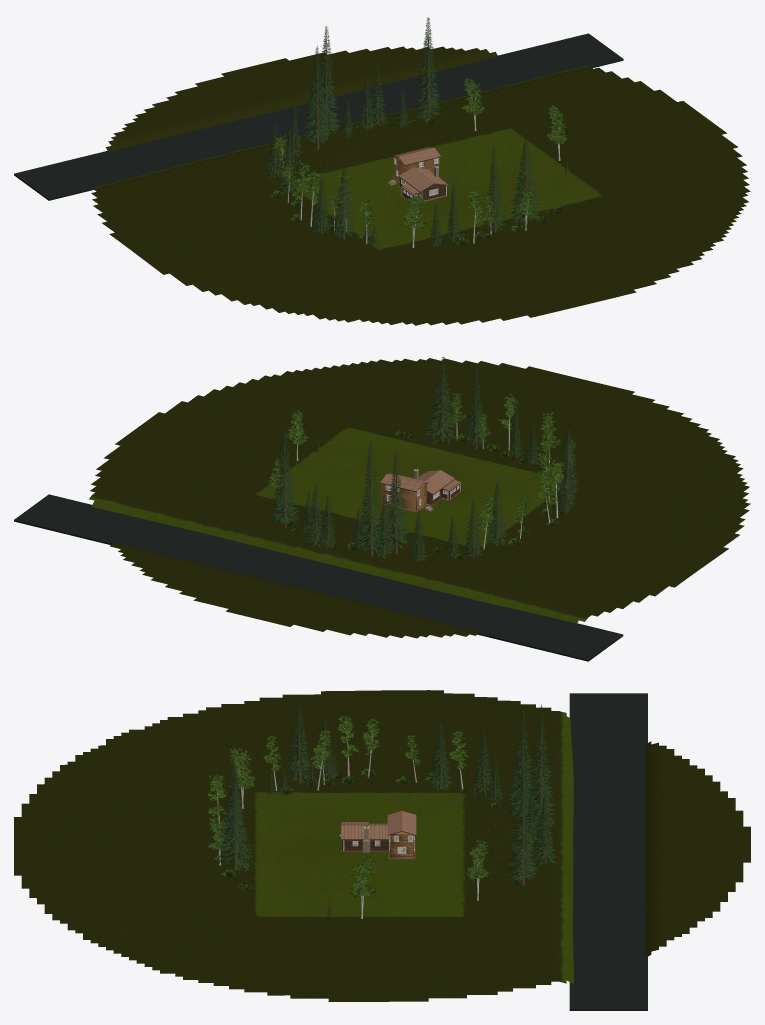
Rendered from plan_two_story_960_classic.glb.
3 views of the same model, one above another, from view 1: azimuth 30°, elevation 25°; view 2: azimuth 150°, elevation 25°; view 3: azimuth 270°, elevation 25° (orthographic). The views are drawn at different scales.
Visible parts, largest first — view 1: Ground, River, P_Fir0_inst.073, P_Fir1_inst.067, P_Fir0_inst.075, P_Spruce1_inst.042, P_Spruce0_inst.046, P_Fir0_inst.042, P_Spruce2_inst.079, P_Birch1_inst.040, EX_Roof_metal, P_Spruce3_inst.061 (+5 smaller); view 2: Ground, River, P_Fir0_inst.075, P_Fir0_inst.073, P_Spruce1_inst.042, P_Fir1_inst.067, P_Fir0_inst.042, P_Spruce0_inst.073, P_Spruce3_inst.061, P_Spruce0_inst.046, P_Spruce2_inst.079, P_Spruce2_inst.072 (+6 smaller); view 3: Ground, River, P_Fir0_inst.075, P_Fir0_inst.073, P_Spruce1_inst.042, P_Fir1_inst.067, P_Spruce0_inst.046, P_Spruce3_inst.061, P_Spruce2_inst.079, GrassTufts, EX_Roof_metal, P_Birch1_inst.040 (+7 smaller).
Part boxes in pixels (bbox=[...]): Ground: bbox=[90, 46, 750, 325]; River: bbox=[14, 33, 623, 200]; P_Fir0_inst.073: bbox=[414, 17, 442, 120]; P_Fir1_inst.067: bbox=[302, 45, 331, 149]; P_Fir0_inst.075: bbox=[312, 25, 342, 139]; P_Spruce1_inst.042: bbox=[509, 137, 541, 224]; P_Spruce0_inst.046: bbox=[332, 167, 355, 239]; P_Fir0_inst.042: bbox=[482, 147, 506, 232]; P_Spruce2_inst.079: bbox=[368, 63, 388, 126]; P_Birch1_inst.040: bbox=[403, 192, 426, 247]; EX_Roof_metal: bbox=[399, 167, 448, 191]; P_Spruce3_inst.061: bbox=[277, 130, 298, 194]; Ground: bbox=[89, 358, 750, 638]; River: bbox=[14, 494, 623, 661]; P_Fir0_inst.075: bbox=[355, 442, 383, 556]; P_Fir0_inst.073: bbox=[269, 421, 299, 527]; P_Spruce1_inst.042: bbox=[425, 357, 458, 441]; P_Fir1_inst.067: bbox=[383, 453, 410, 554]; P_Fir0_inst.042: bbox=[465, 363, 487, 449]; P_Spruce0_inst.073: bbox=[374, 494, 394, 559]; P_Spruce3_inst.061: bbox=[486, 483, 508, 547]; P_Spruce0_inst.046: bbox=[557, 426, 579, 498]; P_Spruce2_inst.079: bbox=[304, 483, 325, 548]; P_Spruce2_inst.072: bbox=[463, 500, 483, 558]; Ground: bbox=[14, 690, 750, 1001]; River: bbox=[569, 693, 647, 1010]; P_Fir0_inst.075: bbox=[525, 704, 555, 832]; P_Fir0_inst.073: bbox=[506, 765, 539, 885]; P_Spruce1_inst.042: bbox=[216, 773, 253, 872]; P_Fir1_inst.067: bbox=[506, 707, 533, 824]; P_Spruce0_inst.046: bbox=[286, 703, 311, 784]; P_Spruce3_inst.061: bbox=[427, 719, 453, 792]; P_Spruce2_inst.079: bbox=[533, 795, 556, 867]; GrassTufts: bbox=[250, 788, 513, 903]; EX_Roof_metal: bbox=[341, 823, 389, 839]; P_Birch1_inst.040: bbox=[228, 747, 255, 808].
Size of the model in its own units: 154 by 32.12 by 152.
Materials: 35 (14 with a texture image).
